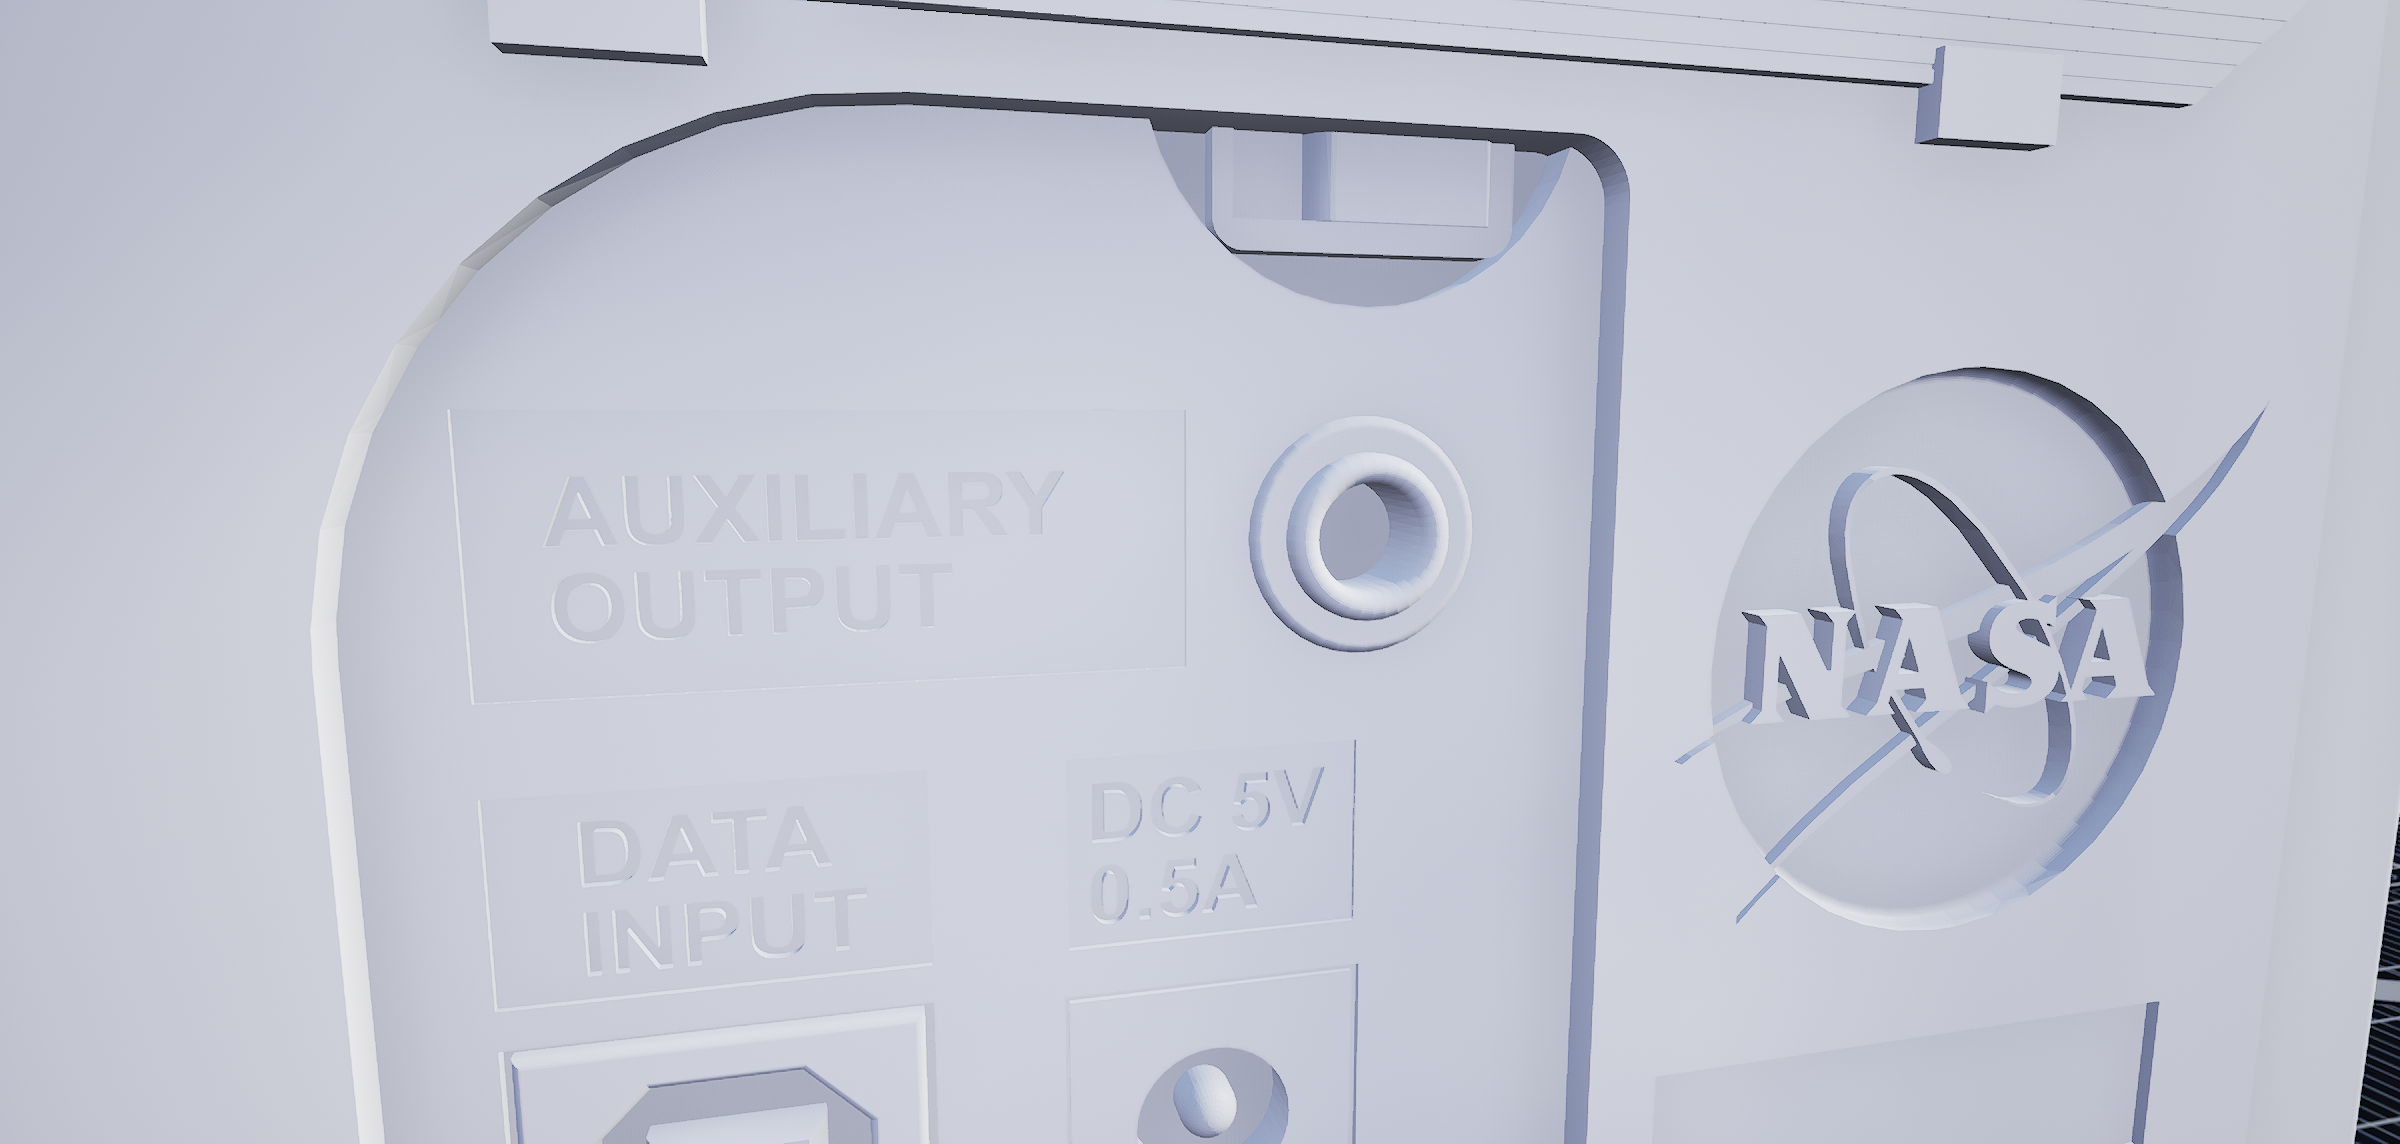aux: (1244, 397, 1495, 663)
dc: (1116, 1041, 1318, 1144)
usb: (572, 1070, 903, 1144)
